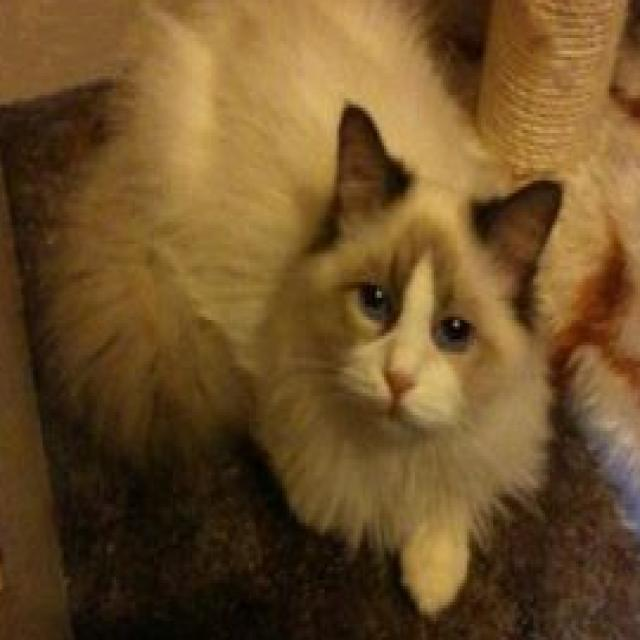Ragdoll: (35, 0, 569, 624)
